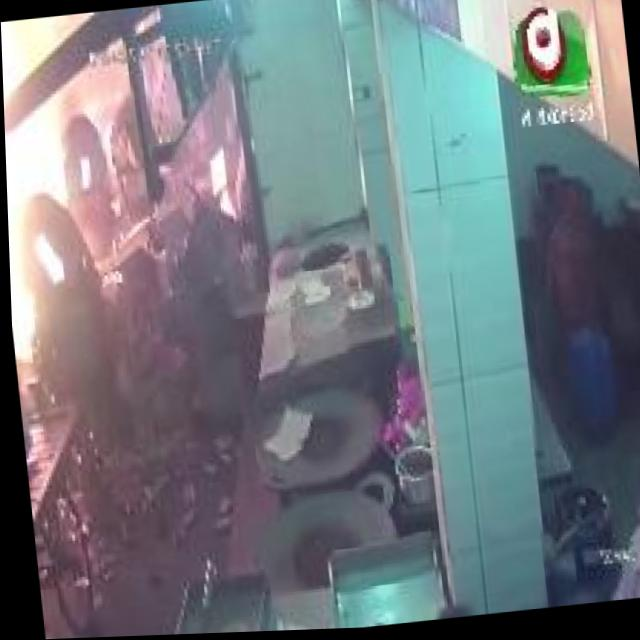fire: (1, 15, 122, 370)
